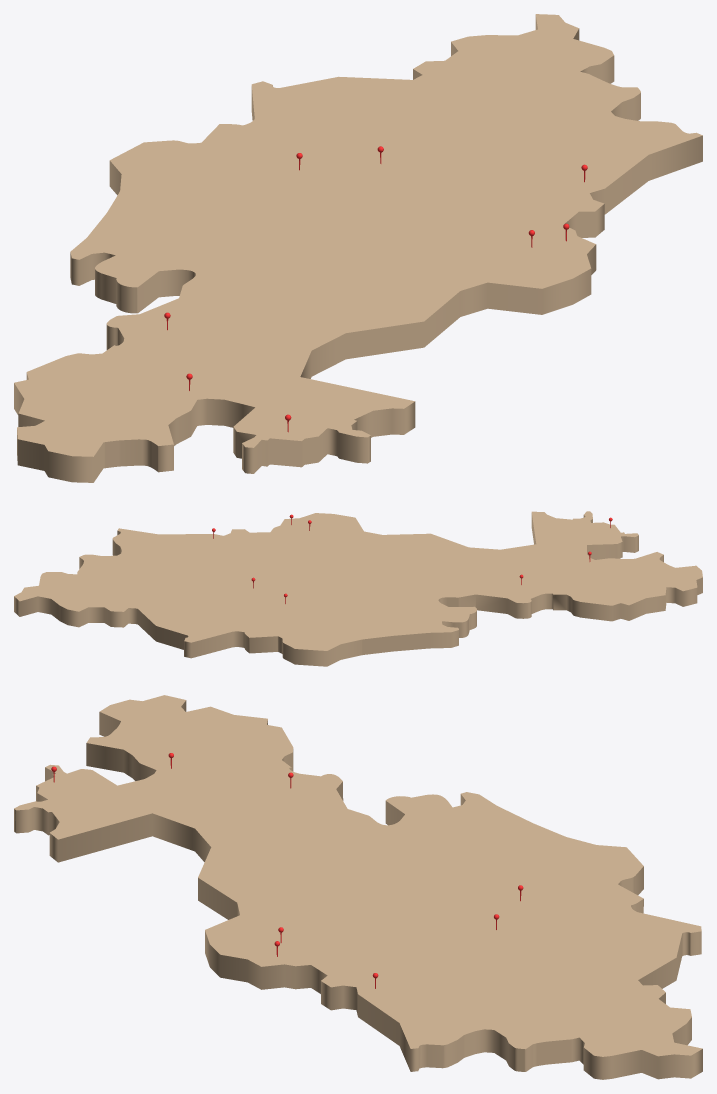
File: map3.glb
3 views of the same model, one above another, from view 1: azimuth 30°, elevation 25°; view 2: azimuth 150°, elevation 25°; view 3: azimuth 270°, elevation 25° (orthographic). The views are drawn at different scales.
Visible parts, largest first — view 1: map; view 2: map; view 3: map.
Boxes of the visible parts, x1=… form: map: x1=14, y1=14, x2=702, y2=482; map: x1=14, y1=511, x2=702, y2=666; map: x1=14, y1=695, x2=702, y2=1079.
Size of what is drawn, in the model's own units: 6.87 by 0.3562 by 5.52.
